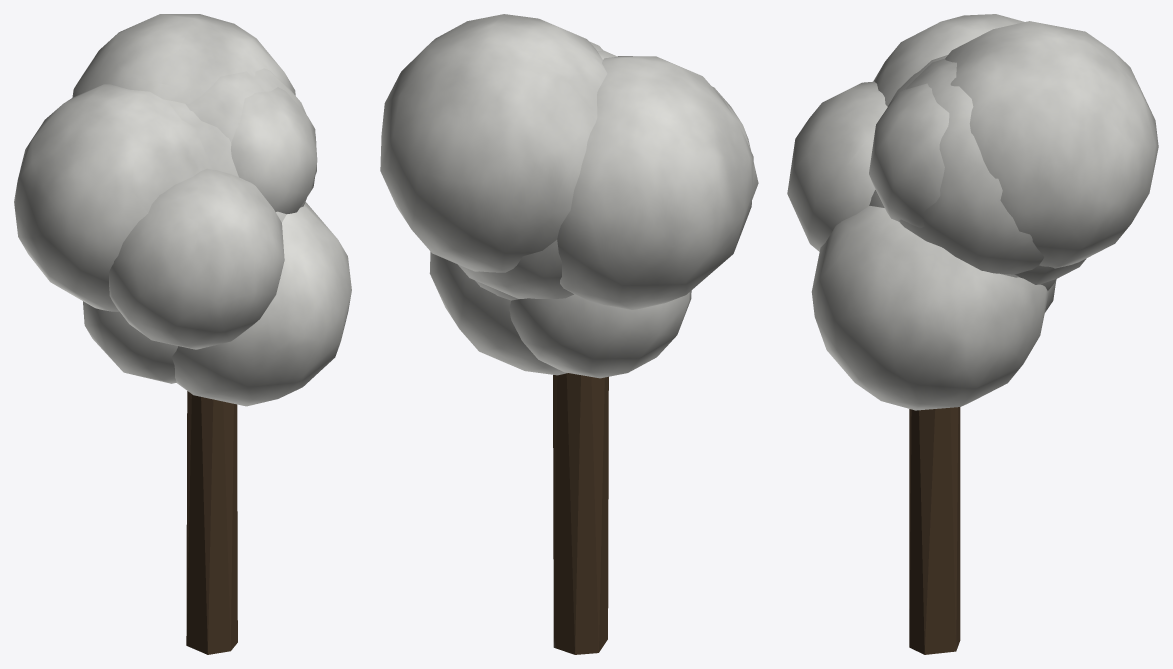
File: strom_v2.glb
3 views of the same model, side by side, from view 1: azimuth 30°, elevation 25°; view 2: azimuth 150°, elevation 25°; view 3: azimuth 270°, elevation 25° (orthographic). The views are drawn at different scales.
Parts seen in each view (by area): view 1: dum; view 2: dum; view 3: dum.
Part boxes in pixels (box(x1,y1,x2,y2)): dum: box(14, 14, 351, 654); dum: box(380, 14, 758, 654); dum: box(787, 14, 1158, 654).
Bounding box in the file's own units: 3.43 × 6.64 × 3.61.
1 material, 1 textured.
